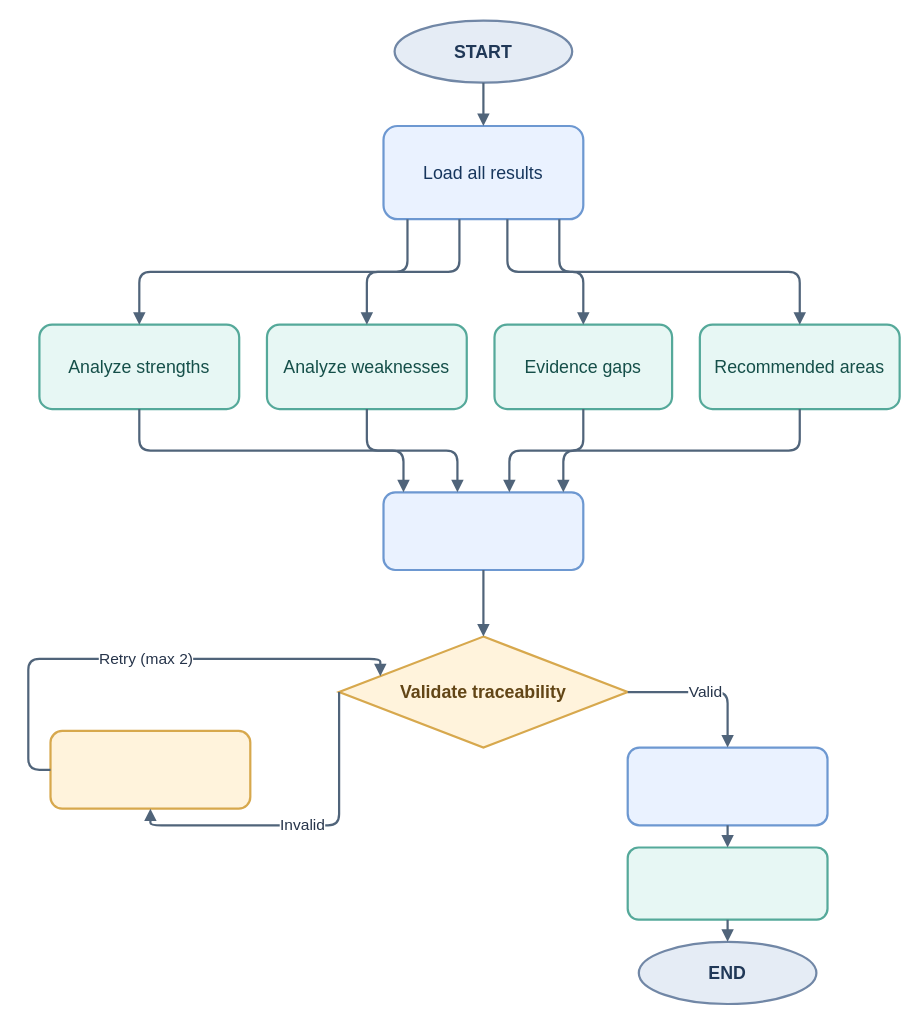
Image size: 919x1023. Some labels were removed from this diagram. The shapes that lost their labels are listed below. From the top down, each one's box as (x1, y1, x2, y2) in pixels, then its label:
(382, 491, 584, 571): Merge assessment
(49, 729, 251, 809): Repair assessment
(626, 746, 828, 826): Generate report data
(626, 846, 828, 920): Persist
